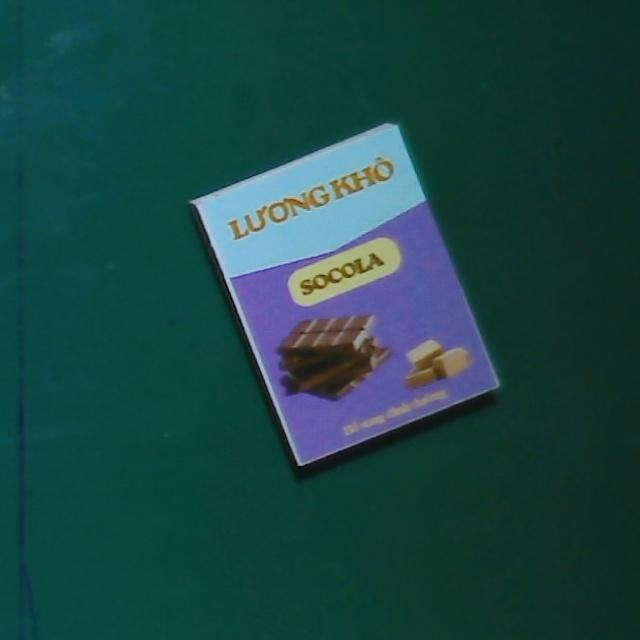socola: (188, 119, 501, 469)
